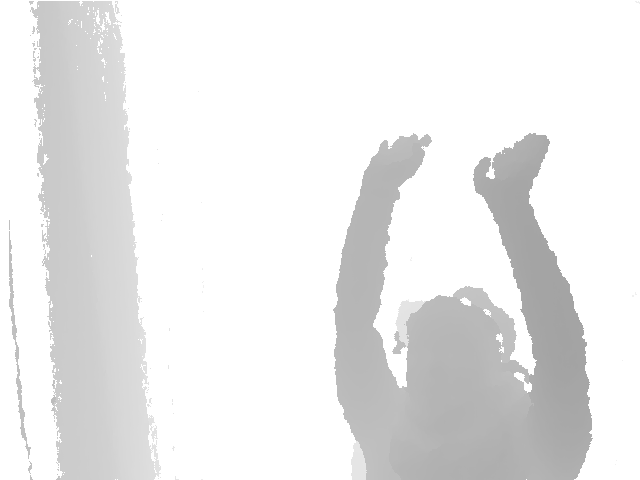hand: (472, 133, 550, 198), (360, 133, 432, 189)
head: (402, 286, 521, 391)
person: (334, 133, 593, 480)
